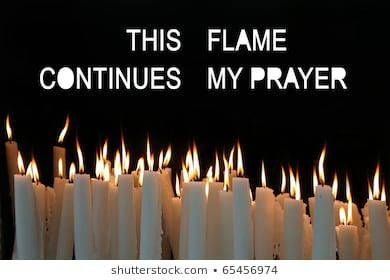fire: (183, 141, 200, 183), (367, 163, 385, 202), (313, 143, 327, 193), (96, 136, 112, 179), (115, 135, 129, 179), (284, 167, 300, 198), (25, 153, 40, 183), (2, 113, 14, 140), (337, 203, 350, 225), (329, 174, 340, 198)
